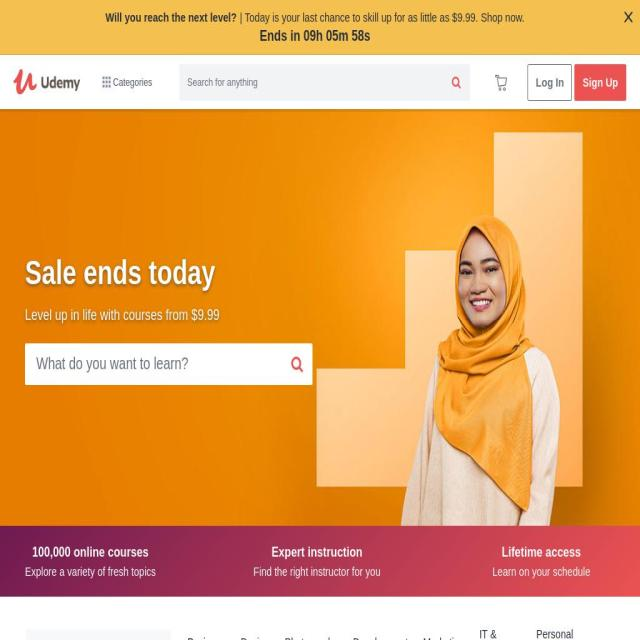button: (92, 63, 162, 101), (528, 616, 614, 640), (574, 63, 627, 101), (12, 68, 82, 96), (345, 616, 416, 640), (528, 63, 572, 101), (276, 616, 345, 640), (471, 616, 528, 640), (416, 616, 472, 640), (180, 616, 233, 640), (486, 63, 516, 101), (232, 616, 277, 640)
field: (25, 343, 282, 385), (179, 63, 443, 101)
image: (12, 68, 82, 96)
text: (25, 250, 313, 295), (25, 302, 313, 326), (240, 10, 524, 24), (25, 542, 156, 562), (253, 542, 381, 562), (25, 562, 156, 580), (253, 562, 381, 580), (492, 542, 590, 562), (105, 10, 237, 24), (260, 28, 372, 44), (492, 562, 590, 580), (110, 76, 152, 88), (487, 73, 515, 91)
